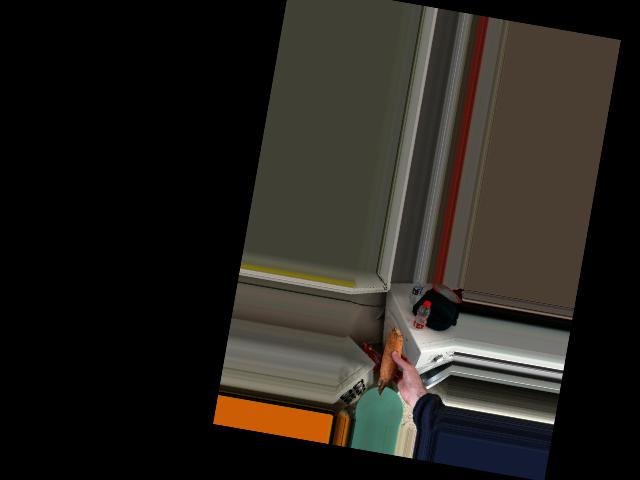sweet_potato: (375, 330, 407, 393)
